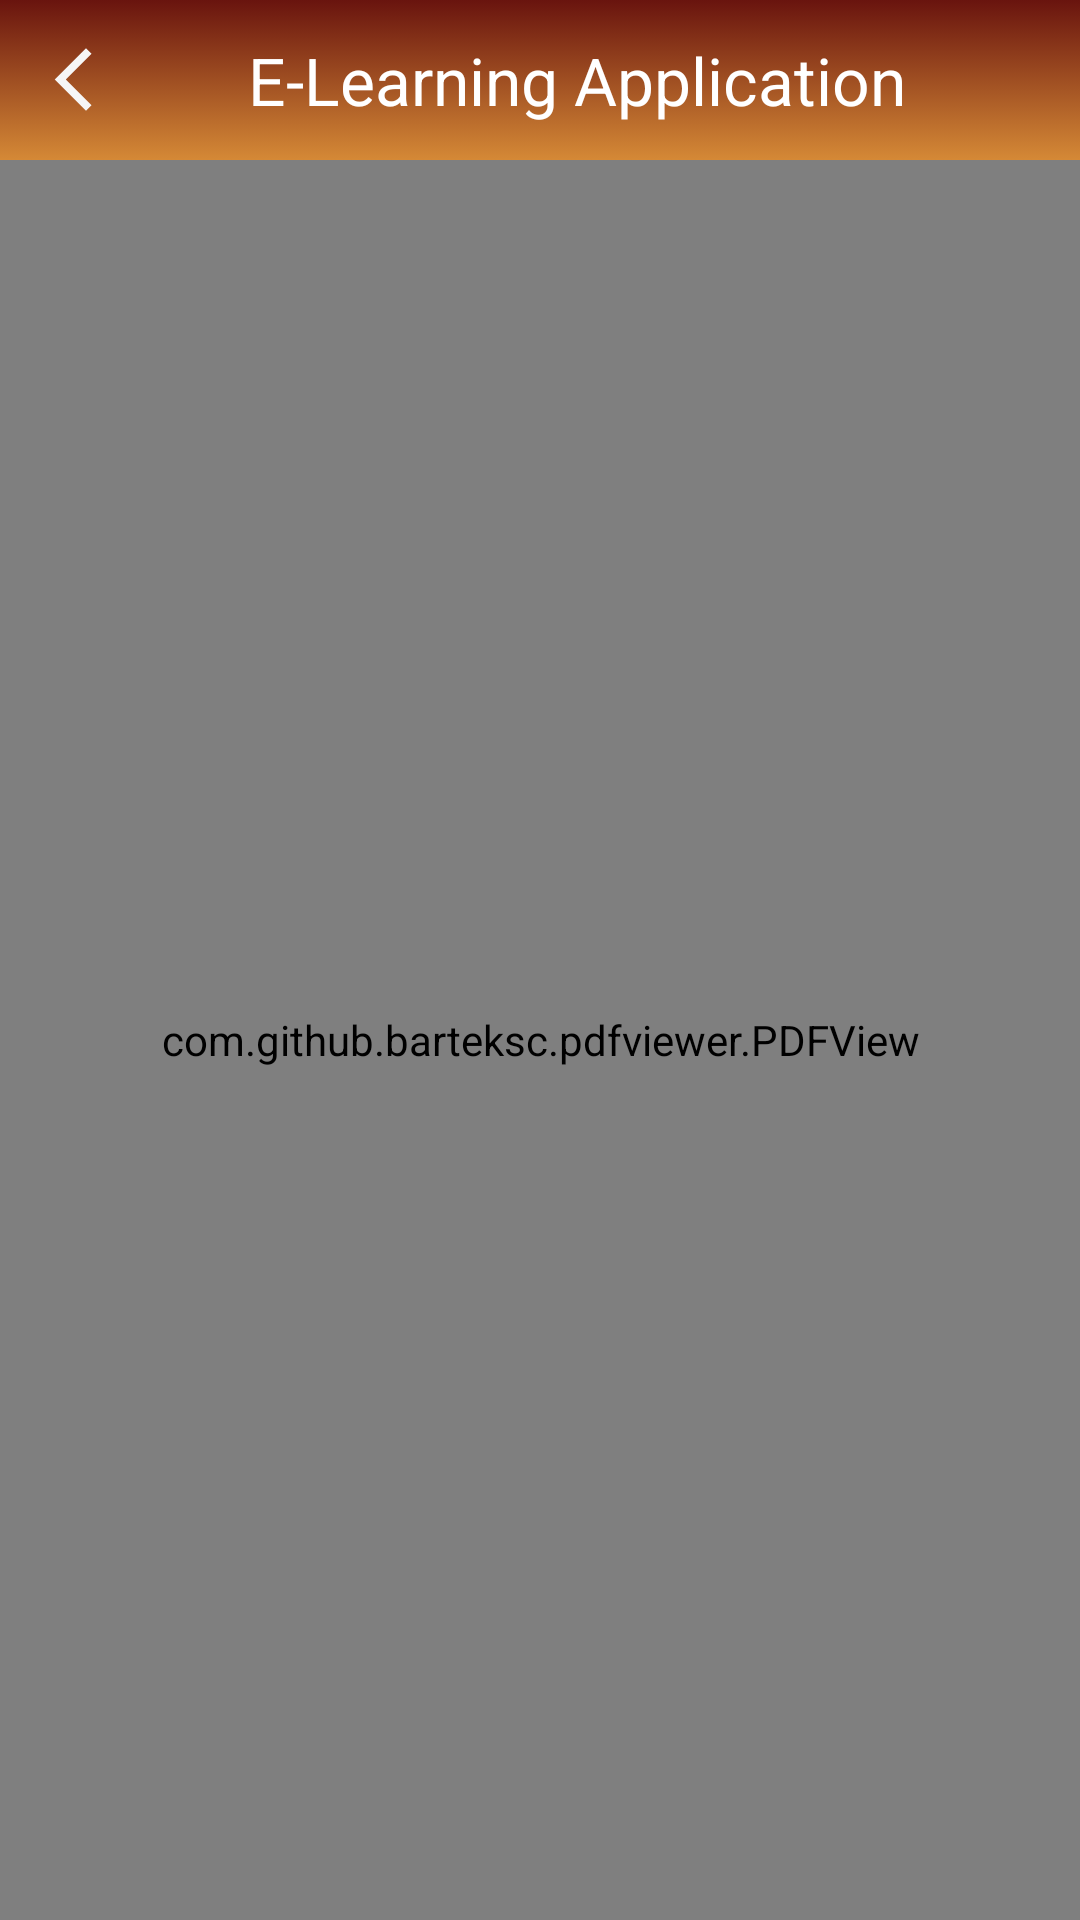

Icons on this 1080px x 1920px Android screen, each with the point to tap as [x,y]:
previousarrow: [73,79]
